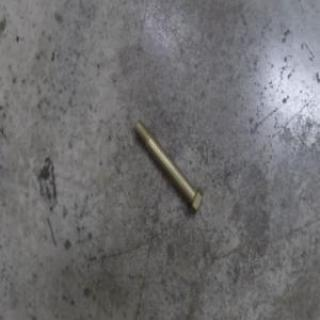Bolttrack_idkeyframe: (133, 118, 203, 215)
